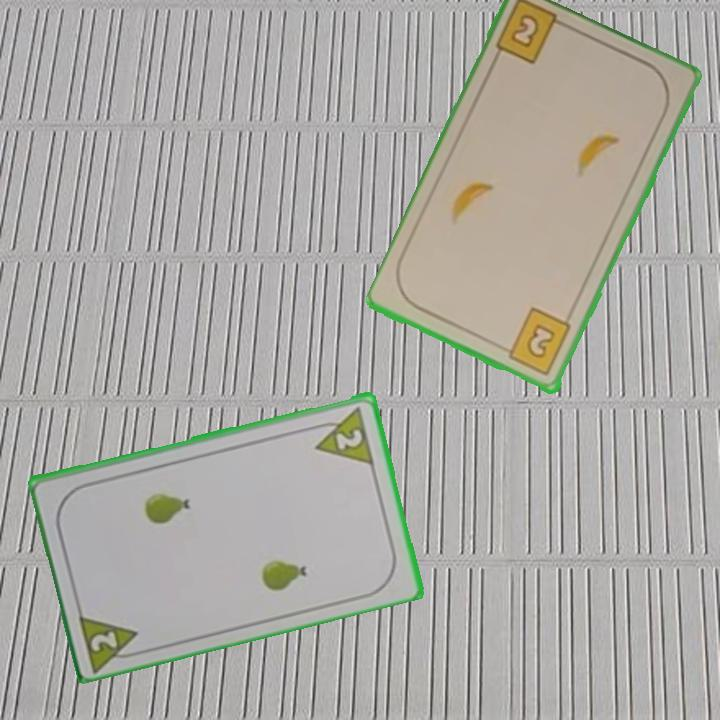2b: (497, 305, 574, 379), (507, 11, 543, 52)
2p: (307, 402, 377, 467), (75, 608, 146, 672)
